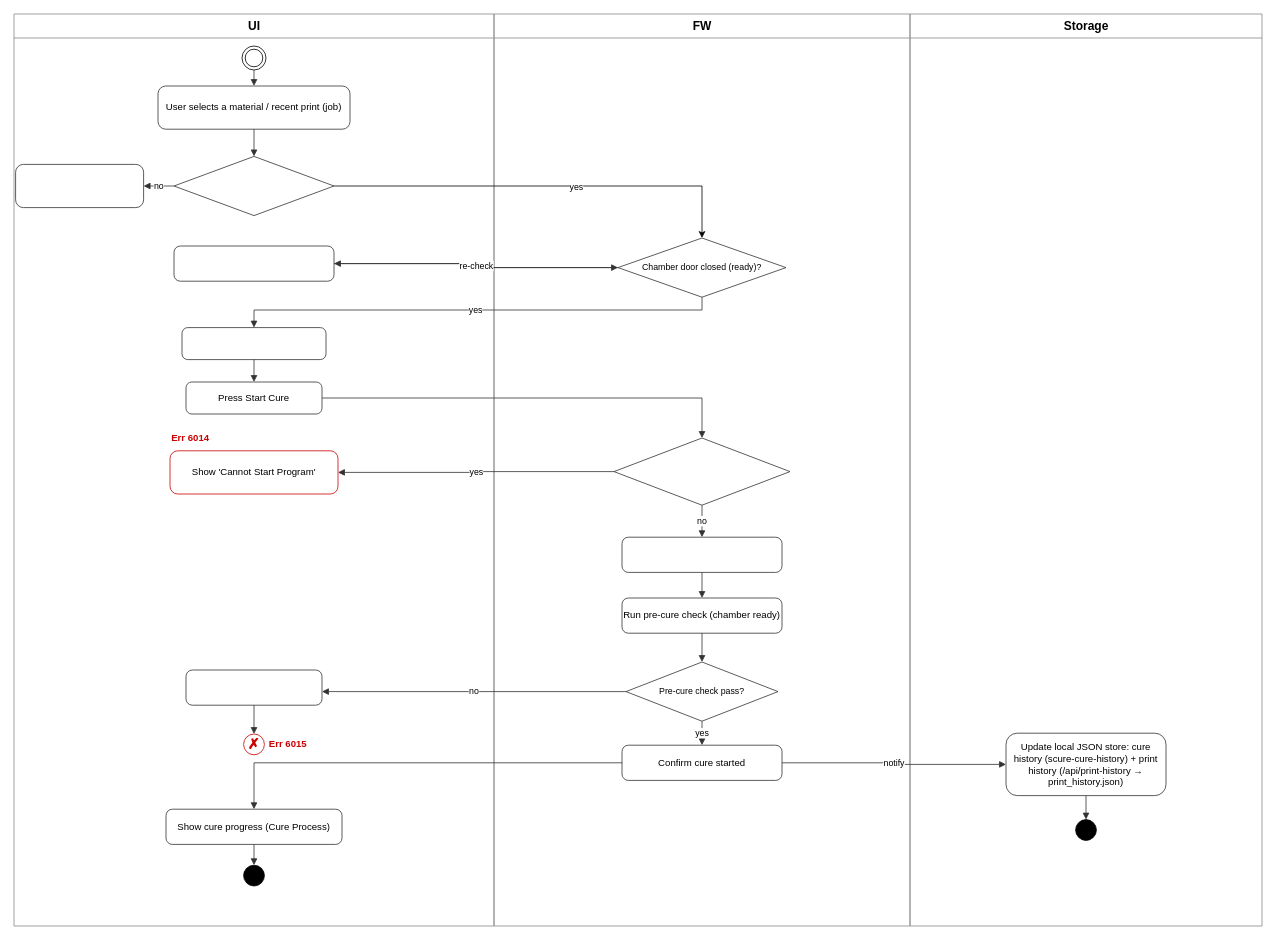
This 1276x940 diagram has some shape labels left out. Here are the shapes that lost their labels. From the top down, the centre of each, then its label:
the point at 79,186: Start Cure disabled (no selection)
the point at 253,186: Material or job selected?
the point at 253,263: Start Cure disabled (door open)
the point at 253,343: Start Cure enabled
the point at 701,471: Program nitrogen-only and nitrogen disabled?
the point at 701,554: Start cure; open Cure Process
the point at 253,687: Show error
